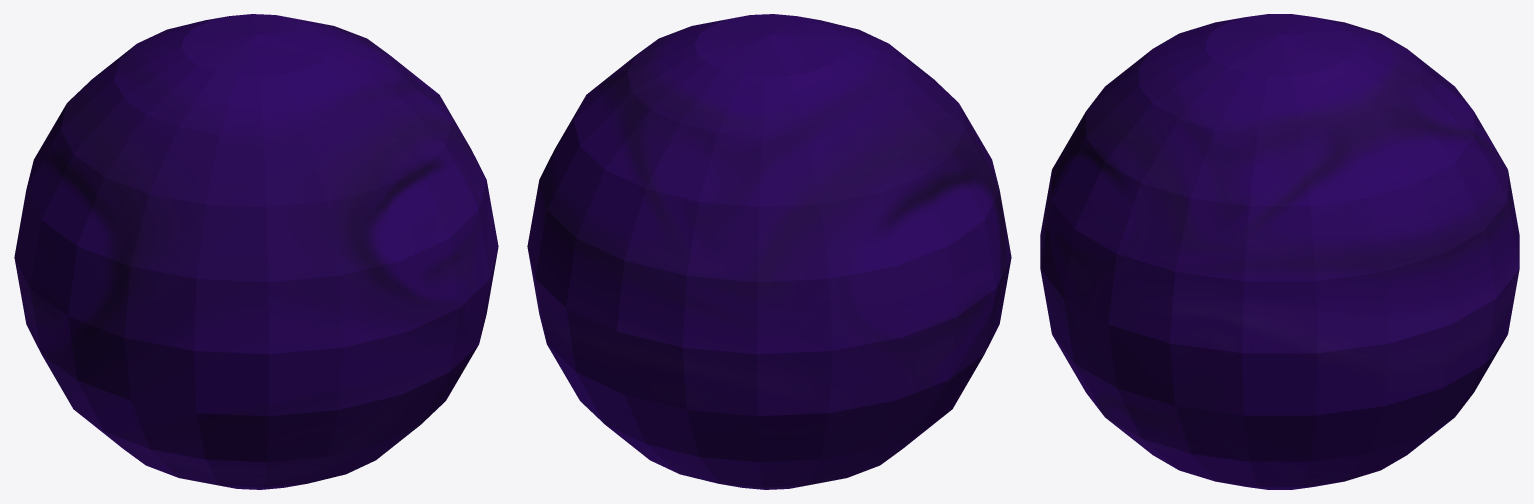
Rendered from bijuudama2.obj.
3 views of the same model, side by side, from view 1: azimuth 30°, elevation 25°; view 2: azimuth 150°, elevation 25°; view 3: azimuth 270°, elevation 25° (orthographic).
Visible parts, largest first — view 1: sphere; view 2: sphere; view 3: sphere.
Boxes of the visible parts, x1,y1,x2,y2 form: sphere: (14, 14, 498, 489); sphere: (527, 14, 1011, 489); sphere: (1040, 14, 1519, 489).
Size of the model in its own units: 1.62 by 1.62 by 1.62.
